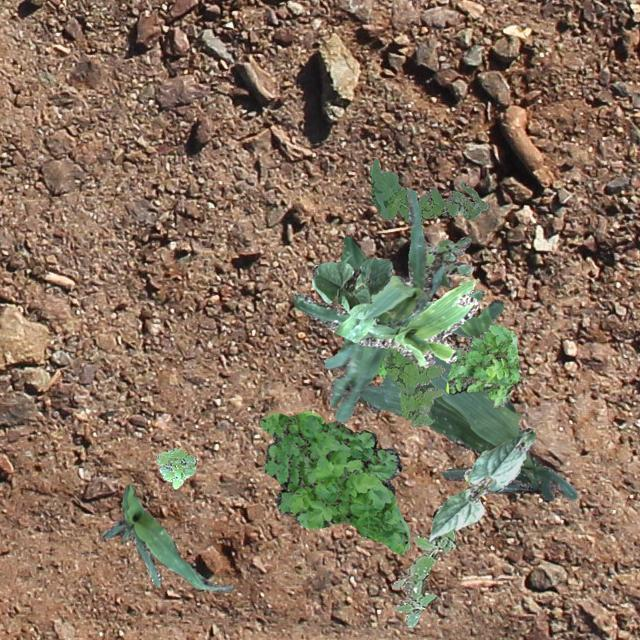crop: (356, 354, 576, 500), (322, 188, 442, 422), (340, 235, 502, 338), (293, 278, 477, 366), (100, 482, 232, 592), (426, 428, 536, 540), (310, 256, 392, 318)
weed: (260, 409, 408, 554), (368, 158, 488, 222), (390, 528, 456, 626), (444, 324, 518, 406), (382, 346, 444, 426), (423, 236, 472, 286), (156, 447, 196, 488), (376, 358, 386, 378)
